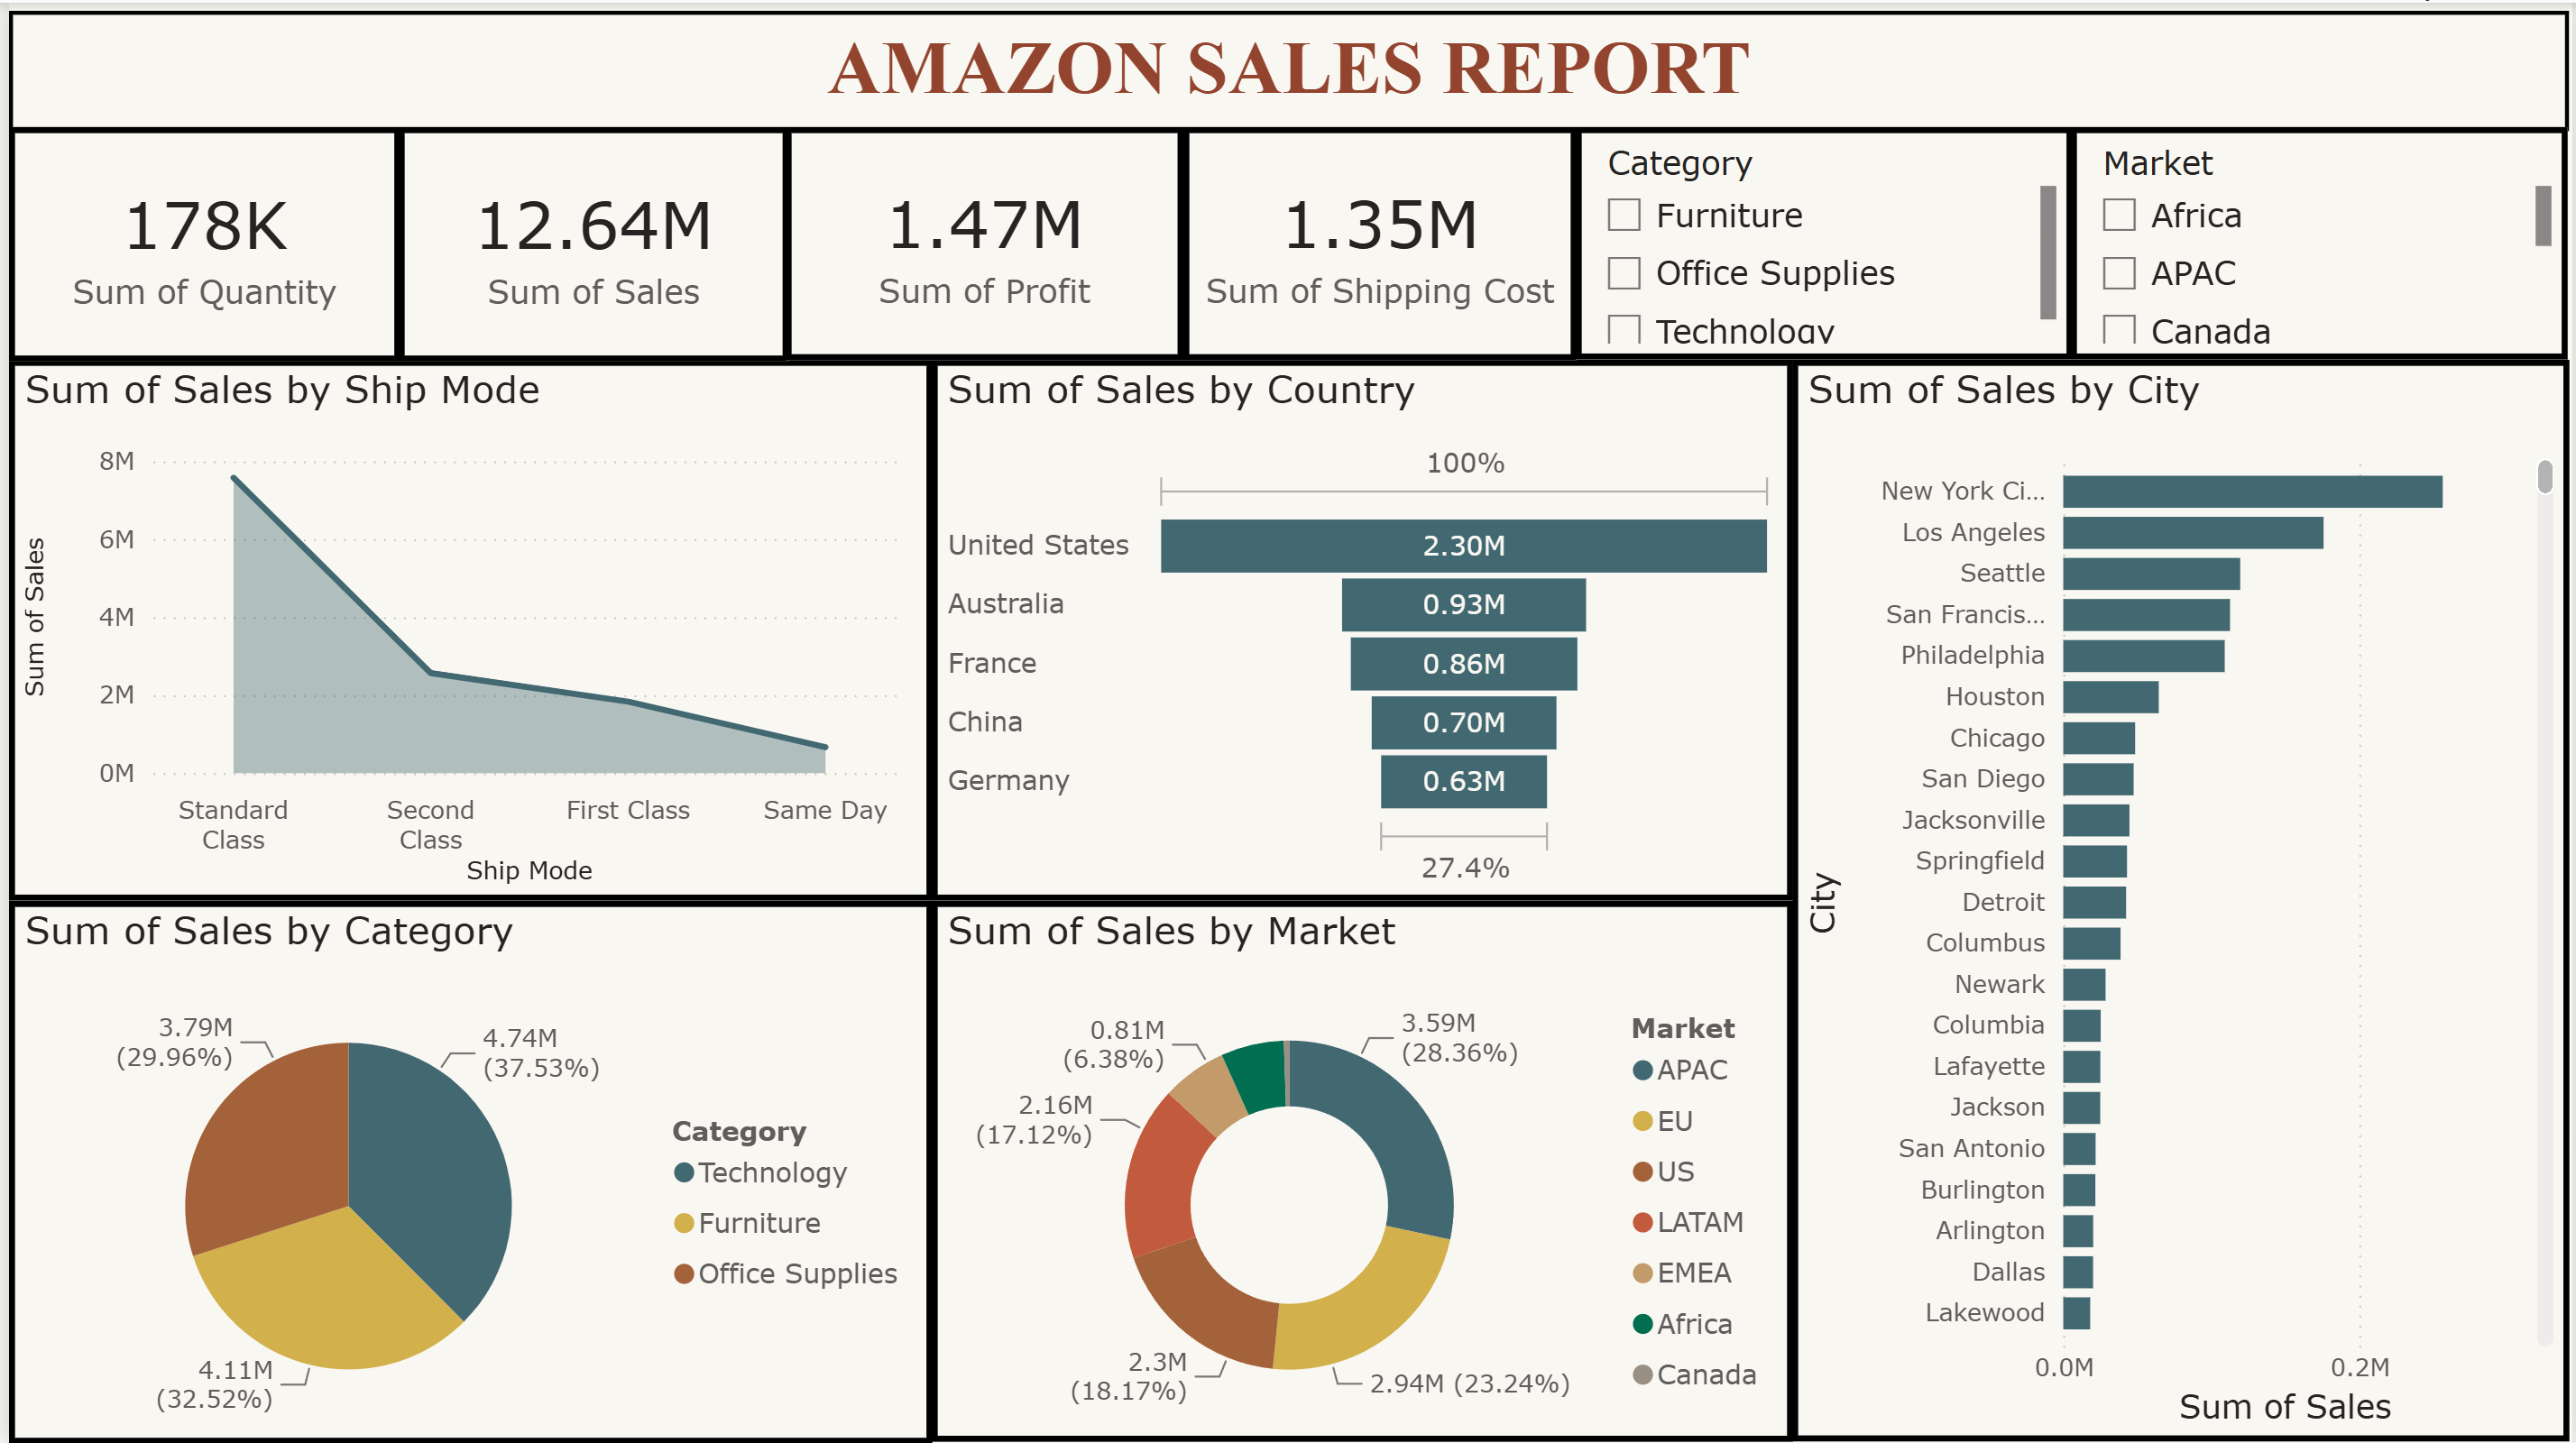

This screenshot's page, from the dashboard's own definition file:
{"tool":"powerbi","page":{"name":"Sales","canvas":[1280,720],"ordinal":0},"visuals":[{"type":"pieChart","fields":{"Category":["Orders.Category"],"Y":["Sum(Orders.Sales)"]},"box":[0,448,461,271],"z":0},{"type":"donutChart","fields":{"Category":["Orders.Market"],"Y":["Sum(Orders.Sales)"]},"box":[460,448,430,270],"z":1000},{"type":"areaChart","fields":{"Category":["Orders.Ship Mode"],"Y":["Sum(Orders.Sales)"]},"box":[0,178,461,270],"z":2000},{"type":"clusteredBarChart","fields":{"Category":["Orders.City"],"Y":["Sum(Orders.Sales)"]},"box":[890,178,388,540],"z":3000},{"type":"funnel","fields":{"Y":["Sum(Orders.Sales)"],"Category":["Orders.Country"]},"box":[460,178,430,270],"z":4000},{"type":"textbox","box":[0,4,1278,60],"z":5000},{"type":"card","fields":{"Values":["Sum(Orders.Quantity)"]},"box":[0,62.1,195.3,116.8],"z":6000},{"type":"card","fields":{"Values":["Sum(Orders.Sales)"]},"box":[194.7,62.1,194.7,116.8],"z":7000},{"type":"card","fields":{"Values":["Sum(Orders.Profit)"]},"box":[387.9,62.1,198.6,116.4],"z":8000},{"type":"card","fields":{"Values":["Sum(Orders.Shipping Cost)"]},"box":[586.4,62.1,196.4,116.4],"z":9000},{"type":"slicer","fields":{"Values":["Orders.Category"]},"box":[782,62,248,116],"z":10000},{"type":"slicer","fields":{"Values":["Orders.Market"]},"box":[1030,62,248,116],"z":11000}]}

Visuals, with their boxes in screenshot pixels (x1, y1, x2, y2), scaled from the page's 1280x720 canvas onto the 2576x1443 screenshot:
pieChart - Orders.Category x Sum(Orders.Sales): (0,898,928,1441)
donutChart - Orders.Market x Sum(Orders.Sales): (925,898,1791,1439)
areaChart - Orders.Ship Mode x Sum(Orders.Sales): (0,357,928,898)
clusteredBarChart - Orders.City x Sum(Orders.Sales): (1791,357,2572,1439)
funnel - Sum(Orders.Sales) x Orders.Country: (925,357,1791,898)
textbox: (0,8,2572,128)
card - Sum(Orders.Quantity): (0,124,393,359)
card - Sum(Orders.Sales): (391,124,784,359)
card - Sum(Orders.Profit): (781,124,1181,358)
card - Sum(Orders.Shipping Cost): (1180,124,1576,358)
slicer - Orders.Category: (1574,124,2073,357)
slicer - Orders.Market: (2073,124,2572,357)
